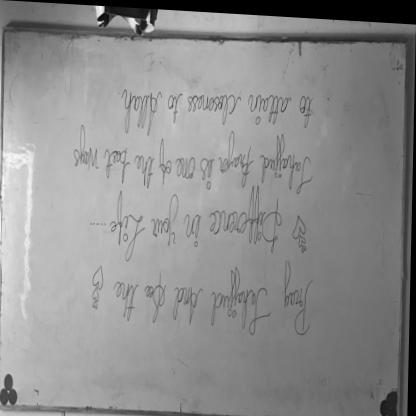Handwritten text: (111, 261, 322, 344), (70, 129, 319, 198), (113, 68, 327, 142), (108, 187, 281, 268)
Whiteboard: (0, 23, 410, 416)
